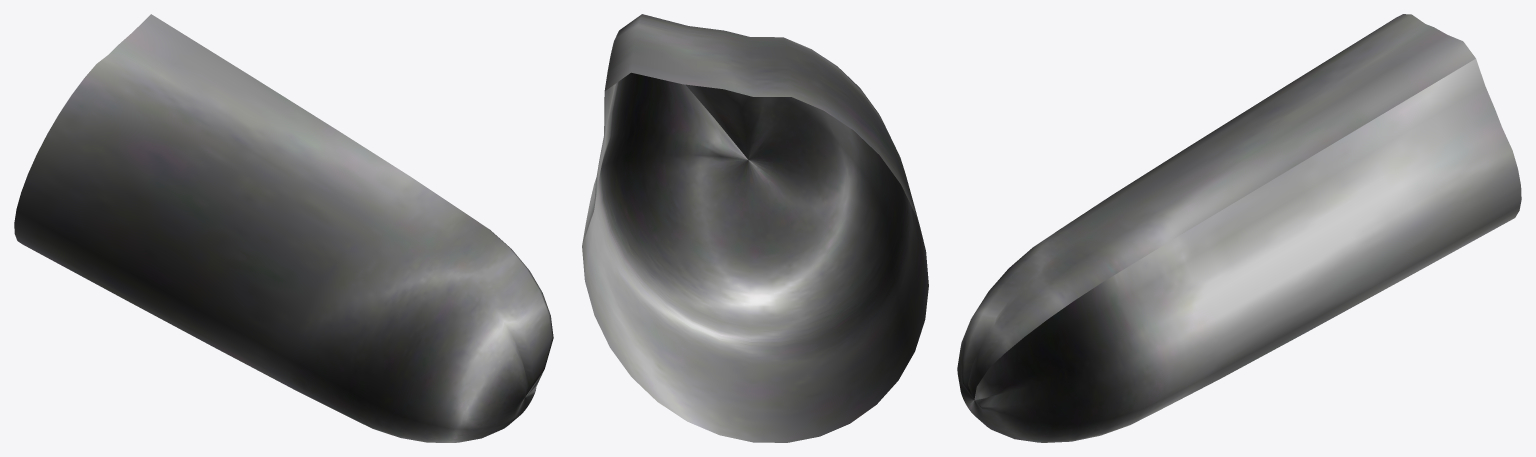
The model's file is effect_bzll_juexing_qiang_dongzuo #431426.fbx.
3 views of the same model, side by side, from view 1: azimuth 30°, elevation 25°; view 2: azimuth 150°, elevation 25°; view 3: azimuth 270°, elevation 25° (orthographic). The views are drawn at different scales.
Parts seen in each view (by area): view 1: effect_bzll_juexing_qiang; view 2: effect_bzll_juexing_qiang; view 3: effect_bzll_juexing_qiang.
Part boxes in pixels (x1,y1,x2,y2): effect_bzll_juexing_qiang: (14, 14, 553, 442); effect_bzll_juexing_qiang: (582, 14, 928, 442); effect_bzll_juexing_qiang: (957, 14, 1521, 442).
Size of the model in its own units: 0.5673 by 0.4791 by 0.7239.
